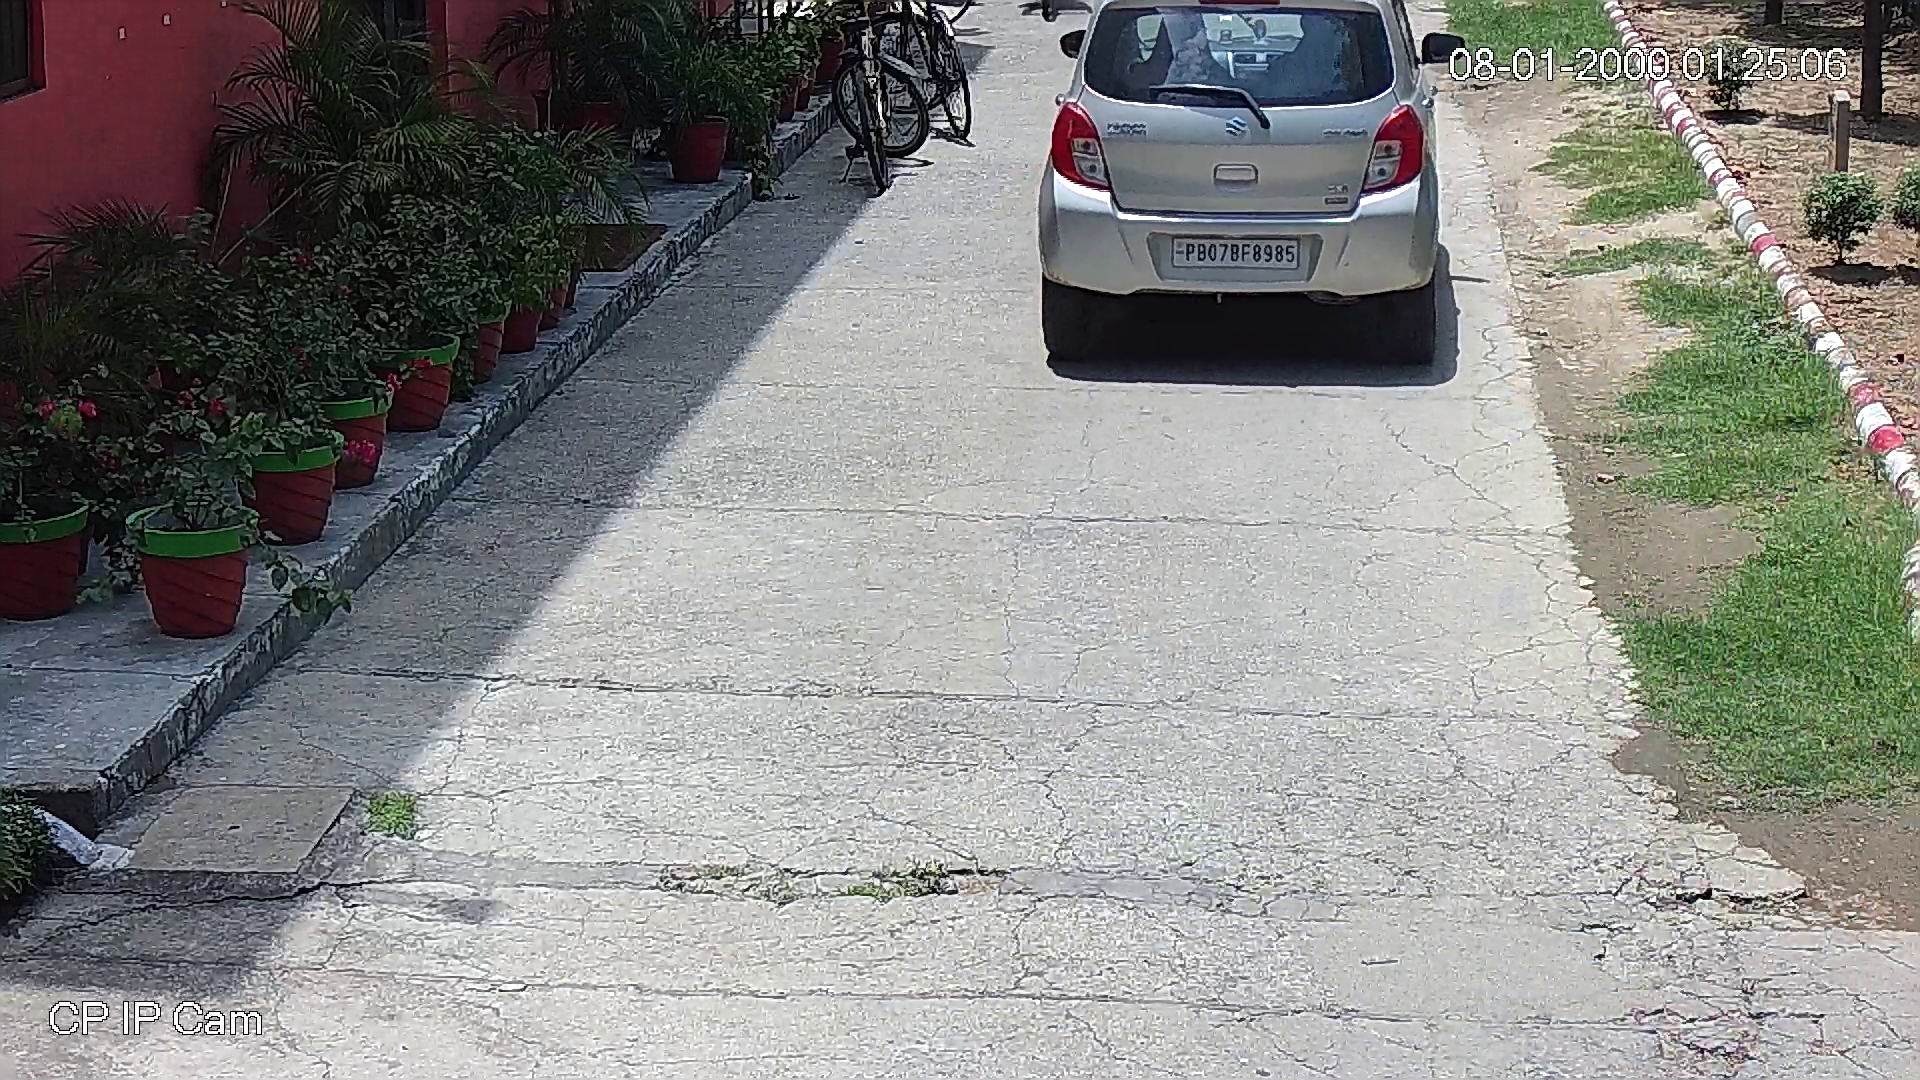plate: (1164, 234, 1306, 273)
